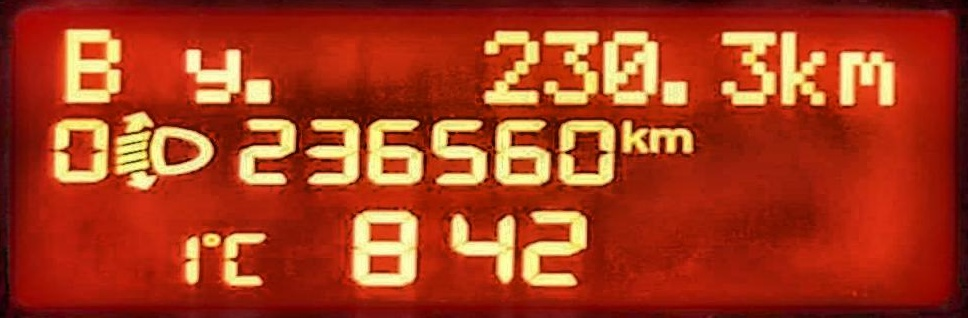-: (658, 77, 691, 106), (239, 78, 273, 106)
0: (599, 29, 659, 106), (46, 115, 112, 182), (554, 118, 618, 186)
1: (178, 234, 202, 287)
2: (517, 208, 589, 286), (481, 27, 541, 105), (233, 116, 298, 185)
3: (717, 28, 780, 106), (539, 27, 600, 107), (303, 116, 361, 188)
4: (444, 211, 518, 286)
5: (429, 116, 490, 185)
6: (365, 116, 426, 185), (492, 116, 550, 185)
8: (345, 206, 419, 287)
X: (59, 26, 123, 105), (779, 29, 829, 106), (180, 46, 242, 107), (836, 48, 898, 108), (217, 230, 270, 289), (644, 125, 693, 155), (618, 118, 650, 155)
